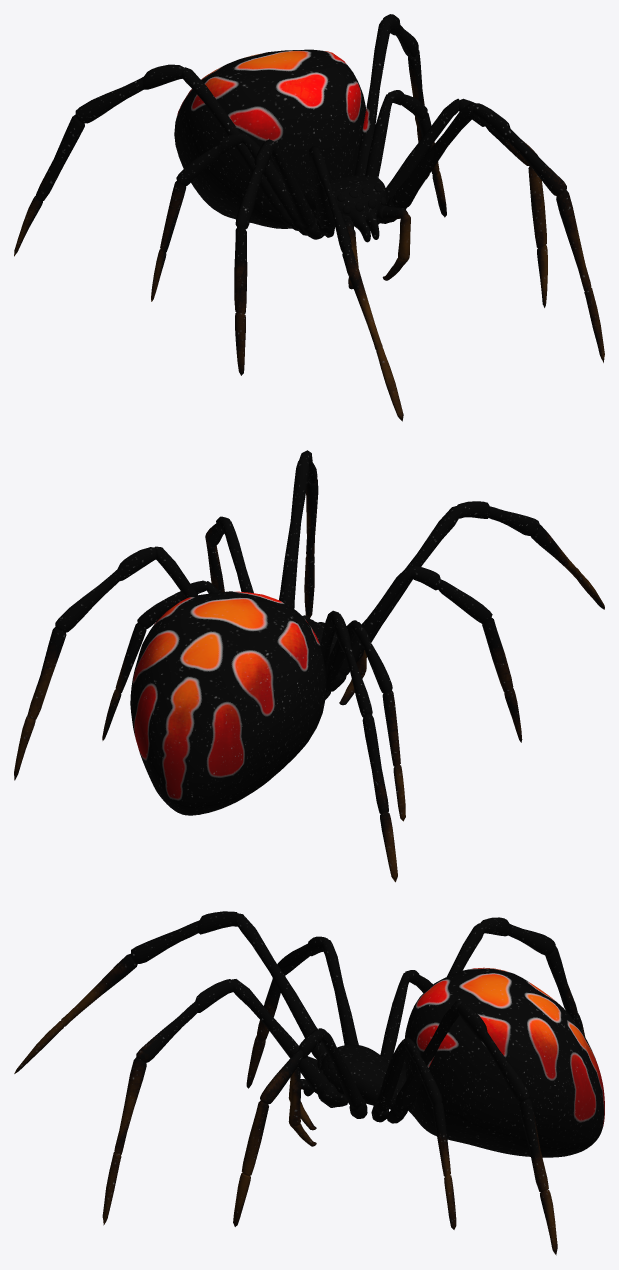
File: black_widow.obj
The picture shows the model from 3 angles, top to bottom: view 1: azimuth 30°, elevation 25°; view 2: azimuth 150°, elevation 25°; view 3: azimuth 270°, elevation 25°; orthographic projection. The views are drawn at different scales.
Parts seen in each view (by area): view 1: black_widow; view 2: black_widow; view 3: black_widow.
Boxes of the visible parts, x1=… form: black_widow: x1=14, y1=14, x2=604, y2=421; black_widow: x1=14, y1=450, x2=604, y2=882; black_widow: x1=14, y1=911, x2=604, y2=1255.
Size of the model in its own units: 1.83 by 1.01 by 2.44.
Materials: 1 (1 with a texture image).
